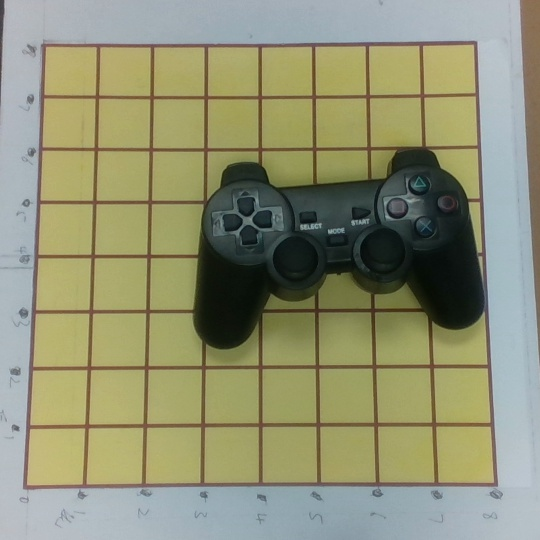remote: (195, 147, 485, 348)
